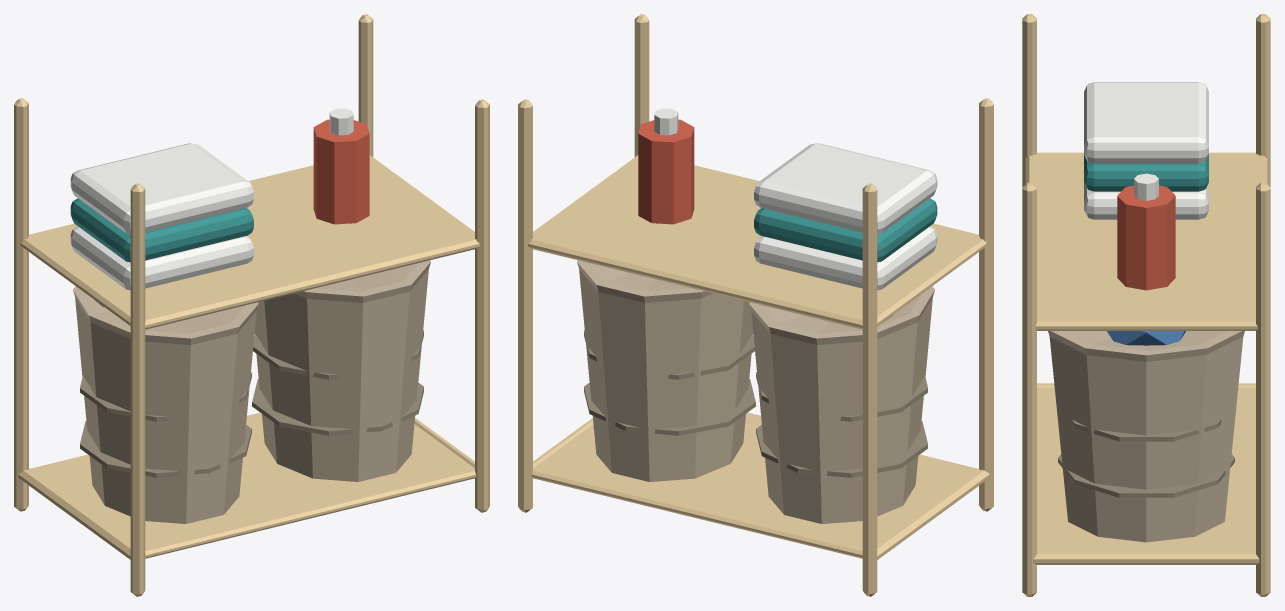
The model's file is laundry_basket.glb.
3 views of the same model, side by side, from view 1: azimuth 30°, elevation 25°; view 2: azimuth 150°, elevation 25°; view 3: azimuth 270°, elevation 25° (orthographic).
Parts seen in each view (by area): view 1: laundry_basket_Body; view 2: laundry_basket_Body; view 3: laundry_basket_Body.
Boxes of the visible parts, x1,y1,x2,y2 form: laundry_basket_Body: (14,14,489,596); laundry_basket_Body: (518,14,993,596); laundry_basket_Body: (1022,14,1270,596).
Bounding box in the file's own units: 1 × 1.1 × 0.6.
